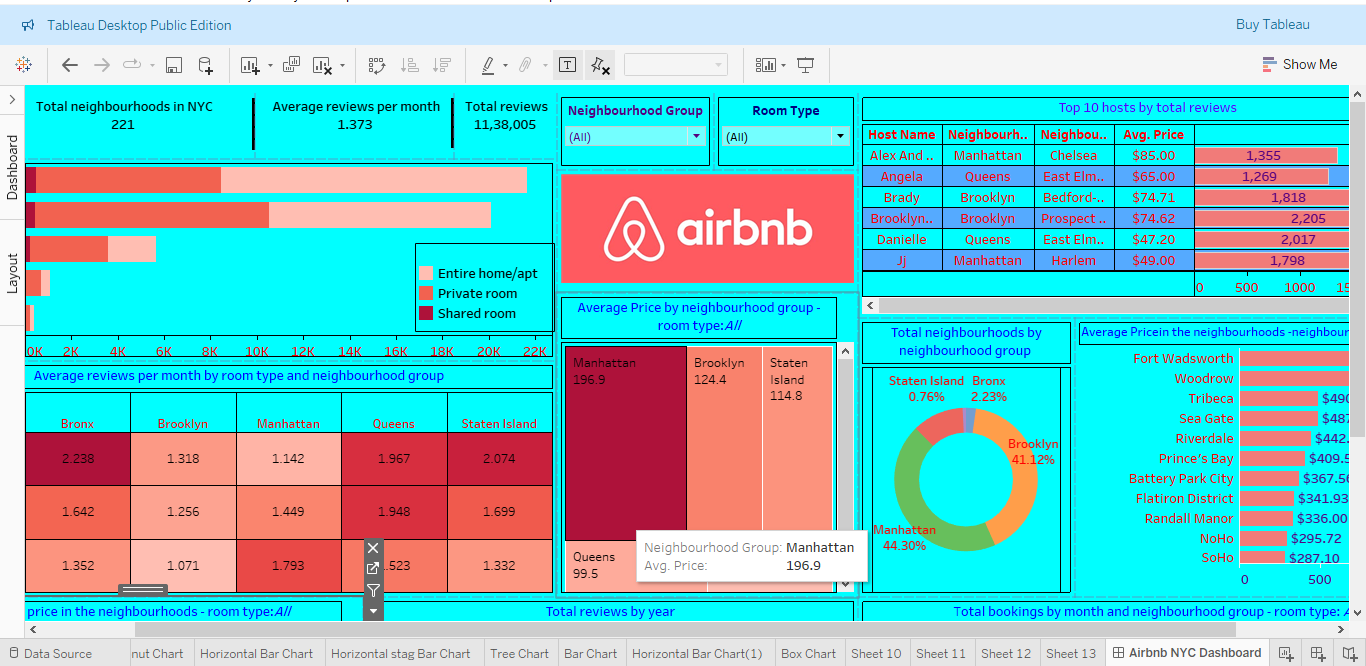

This screenshot's page, from the dashboard's own definition file:
{"tool":"tableau","page":{"name":"Airbnb NYC Dashboard","canvas":[1550,800],"ordinal":0},"visuals":[{"type":"worksheet","title":"Sheet 10","mark":"Automatic","box":[8,8,94.1,66]},{"type":"worksheet","title":"Sheet 11","mark":"Automatic","box":[102.1,8,239.6,66]},{"type":"worksheet","title":"Sheet 12","mark":"Automatic","box":[341.7,8,199,66]},{"type":"worksheet","title":"Sheet 13","mark":"Automatic","box":[540.7,8,103.3,66]},{"type":"filter","title":"Horizontal Bar Chart(1)","param":"[federated.131p3r00qdwx8g1fdew7k0g9wq5l].[none:neighbourhood_group:nk]","box":[644,8,157.1,77]},{"type":"filter","title":"Tree Chart","param":"[federated.131p3r00qdwx8g1fdew7k0g9wq5l].[none:room_type:nk]","box":[801.1,8,144.2,77]},{"type":"worksheet","title":"Horizontal Bar Chart","mark":"Automatic","rows":["host_name","neighbourhood_group","neighbourhood","price"],"cols":["number_of_reviews"],"box":[945.3,8,596.7,225]},{"type":"blank","box":[100.5,12,3.2,51]},{"type":"blank","box":[339,13,3,52]},{"type":"blank","box":[538,13,3,50]},{"type":"worksheet","title":"Horizontal stag Bar Chart","mark":"Automatic","rows":["neighbourhood_group"],"cols":["name"],"box":[8,74,636,202]},{"type":"image","param":"Image/airbnb picture.jpeg","box":[644,85,301.3,123]},{"type":"legend","title":"Horizontal stag Bar Chart","param":"[federated.131p3r00qdwx8g1fdew7k0g9wq5l].[none:room_type:nk]","box":[502.2,158,140.1,89]},{"type":"worksheet","title":"Tree Chart","mark":"Automatic","box":[644,208,301.3,304]},{"type":"worksheet","title":"Donut Chart","mark":"Pie","rows":["Calculation_31525257486581761","Calculation_31525257486581761"],"box":[945.3,233,216.7,279]},{"type":"worksheet","title":"Horizontal Bar Chart(1)","mark":"Automatic","rows":["neighbourhood"],"cols":["price"],"box":[1162,233,380,279]},{"type":"worksheet","title":"Box Chart","mark":"Square","rows":["room_type"],"cols":["neighbourhood_group"],"box":[8,276,636,236]},{"type":"worksheet","title":"Map","mark":"Heatmap","rows":["latitude"],"cols":["longitude"],"box":[8,512,442.1,280]},{"type":"worksheet","title":"Bar Chart","mark":"Bar","rows":["number_of_reviews"],"cols":["last_review"],"box":[450.1,512,495.2,280]},{"type":"worksheet","title":"Histrogram","mark":"Bar","rows":["name","name"],"cols":["last_review"],"box":[945.3,512,596.7,280]},{"type":"legend","title":"Histrogram","param":"[federated.131p3r00qdwx8g1fdew7k0g9wq5l].[none:neighbourhood_group:nk]","box":[1358,547,144,121]}]}

Visuals, with their boxes on the page's 1550x800 design canvas (x1, y1, x2, y2). These are canvas units, not pixel positions in the 1366x666 screenshot, which may show the page scaled, cropped or inside an application window:
"Sheet 10" worksheet: box=[8, 8, 102, 74]
"Sheet 11" worksheet: box=[102, 8, 342, 74]
"Sheet 12" worksheet: box=[342, 8, 541, 74]
"Sheet 13" worksheet: box=[541, 8, 644, 74]
"Horizontal Bar Chart(1)" filter: box=[644, 8, 801, 85]
"Tree Chart" filter: box=[801, 8, 945, 85]
"Horizontal Bar Chart" worksheet: box=[945, 8, 1542, 233]
blank: box=[100, 12, 104, 63]
blank: box=[339, 13, 342, 65]
blank: box=[538, 13, 541, 63]
"Horizontal stag Bar Chart" worksheet: box=[8, 74, 644, 276]
image: box=[644, 85, 945, 208]
"Horizontal stag Bar Chart" legend: box=[502, 158, 642, 247]
"Tree Chart" worksheet: box=[644, 208, 945, 512]
"Donut Chart" worksheet (Pie marks): box=[945, 233, 1162, 512]
"Horizontal Bar Chart(1)" worksheet: box=[1162, 233, 1542, 512]
"Box Chart" worksheet (Square marks): box=[8, 276, 644, 512]
"Map" worksheet (Heatmap marks): box=[8, 512, 450, 792]
"Bar Chart" worksheet (Bar marks): box=[450, 512, 945, 792]
"Histrogram" worksheet (Bar marks): box=[945, 512, 1542, 792]
"Histrogram" legend: box=[1358, 547, 1502, 668]
